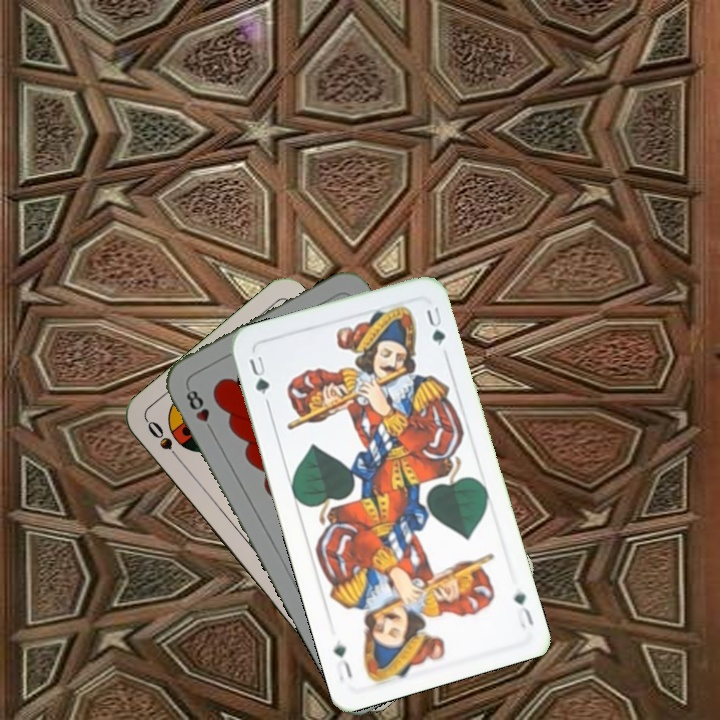GU: (245, 351, 273, 398), (509, 588, 537, 632)
H8: (182, 382, 217, 437)
SO: (143, 416, 186, 467)
